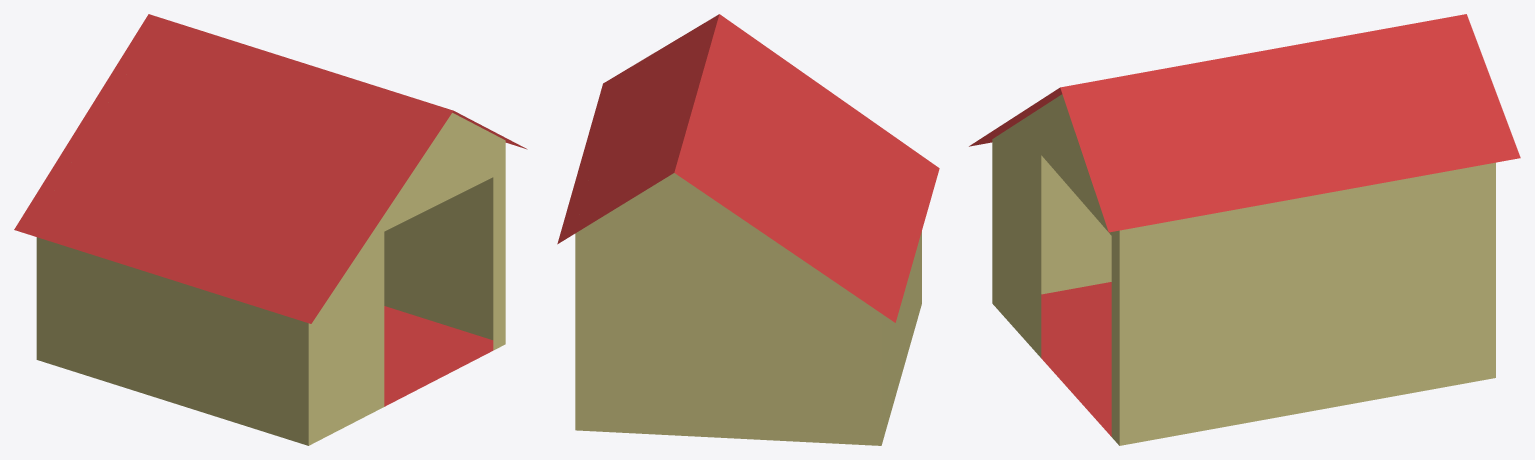
The picture shows the model from 3 angles, left to right: view 1: azimuth 30°, elevation 25°; view 2: azimuth 150°, elevation 25°; view 3: azimuth 270°, elevation 25°; orthographic projection. The views are drawn at different scales.
Size of the model in its own units: 14.39 by 14.67 by 9.22.
